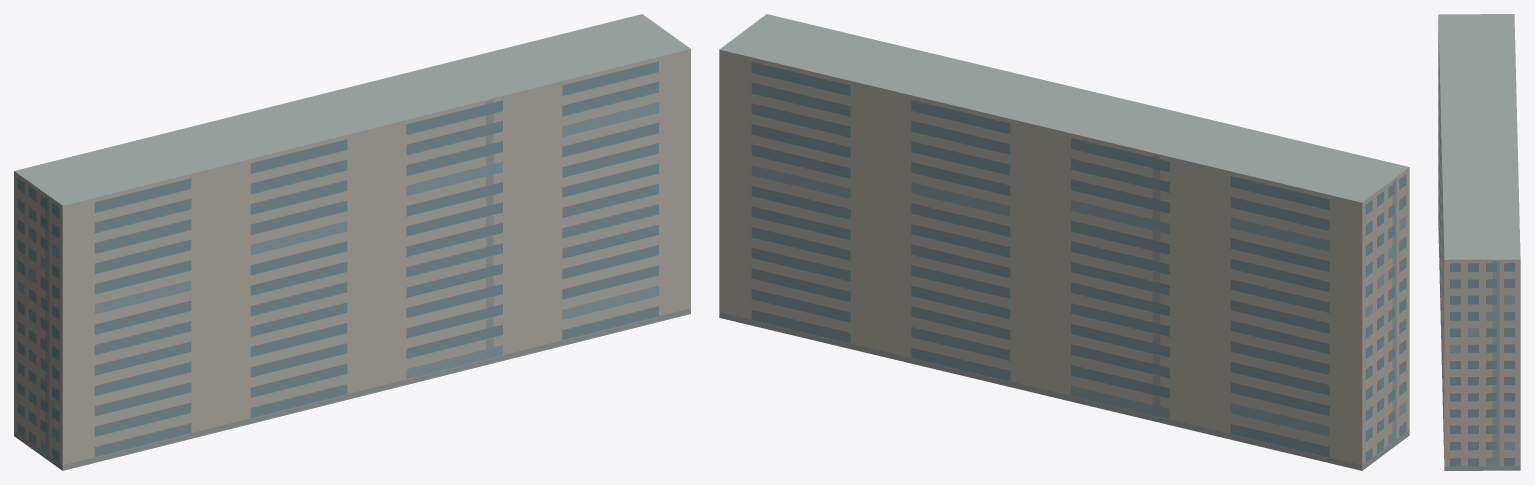
File: residential-28318b53-dff0-48ca-a506-85e16267be0c.glb
The picture shows the model from 3 angles, left to right: view 1: azimuth 30°, elevation 25°; view 2: azimuth 150°, elevation 25°; view 3: azimuth 270°, elevation 25°; orthographic projection. The views are drawn at different scales.
Visible parts, largest first — view 1: residential-28318b53-dff0-48ca-a506-85e16267be0c.tmp; view 2: residential-28318b53-dff0-48ca-a506-85e16267be0c.tmp; view 3: residential-28318b53-dff0-48ca-a506-85e16267be0c.tmp.
Boxes of the visible parts, <box> form: residential-28318b53-dff0-48ca-a506-85e16267be0c.tmp: <box>14,14,690,470</box>; residential-28318b53-dff0-48ca-a506-85e16267be0c.tmp: <box>719,14,1409,470</box>; residential-28318b53-dff0-48ca-a506-85e16267be0c.tmp: <box>1438,14,1520,470</box>.
Bounding box in the file's own units: 99.02 × 39.65 × 14.
